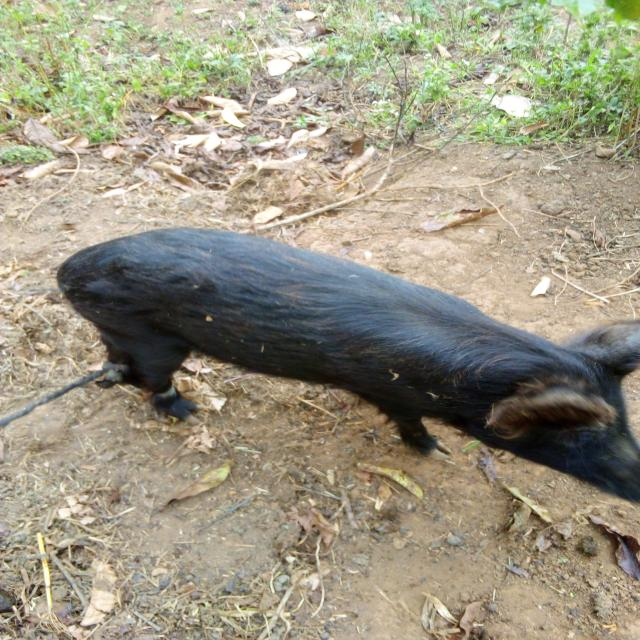pig: (14, 179, 640, 561)
